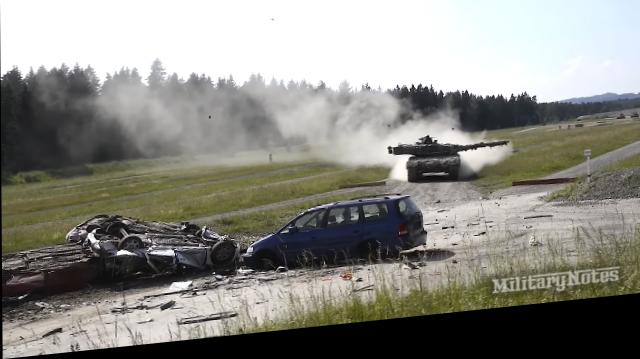tank: (409, 151, 459, 199)
